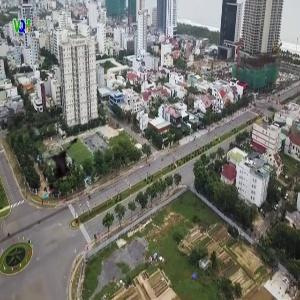drone: (22, 128, 99, 205)
